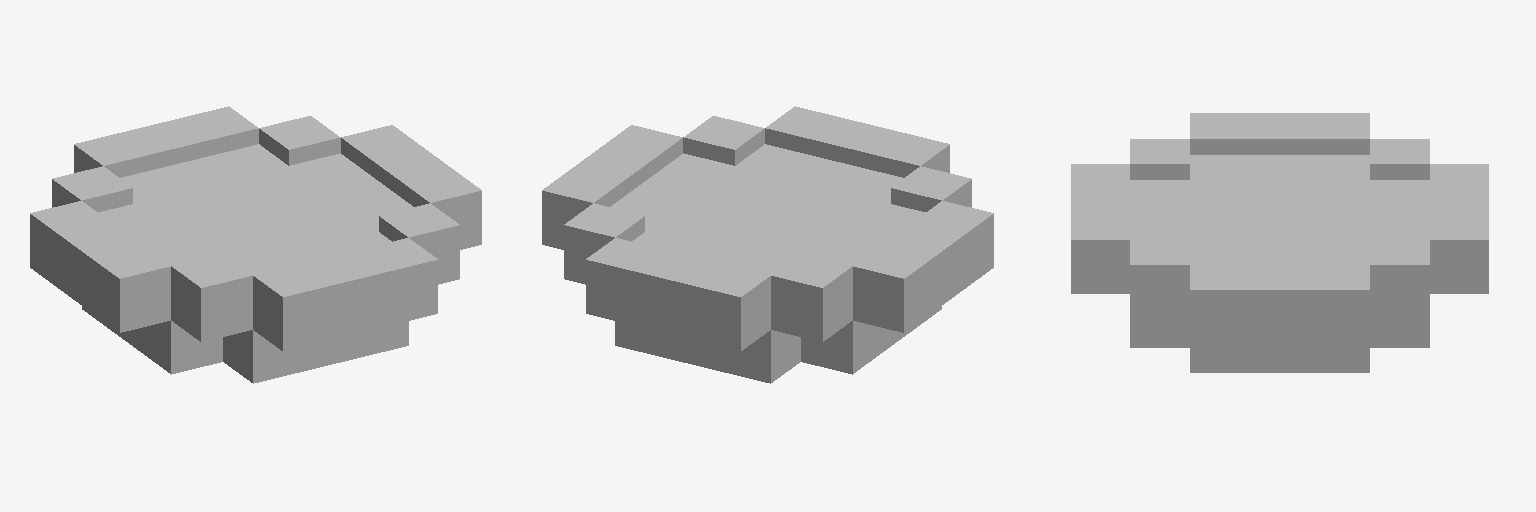
Rendered from mcl_tea_cup_dark_oak.obj.
The picture shows the model from 3 angles: view 1: azimuth 30°, elevation 25°; view 2: azimuth 150°, elevation 25°; view 3: azimuth 270°, elevation 25°; orthographic projection.
Parts seen in each view (by area): view 1: Circle_Circle, Circle.001_Circle.001; view 2: Circle_Circle, Circle.001_Circle.001; view 3: Circle_Circle, Circle.001_Circle.001.
Part boxes in pixels (left/top/right/bottom): Circle_Circle: left=30, top=106, right=481, bottom=383; Circle.001_Circle.001: left=98, top=144, right=412, bottom=274; Circle_Circle: left=542, top=106, right=993, bottom=383; Circle.001_Circle.001: left=611, top=144, right=925, bottom=274; Circle_Circle: left=1071, top=113, right=1488, bottom=372; Circle.001_Circle.001: left=1130, top=155, right=1429, bottom=264.
Size of the model in its own units: 0.4341 by 0.1238 by 0.4341.